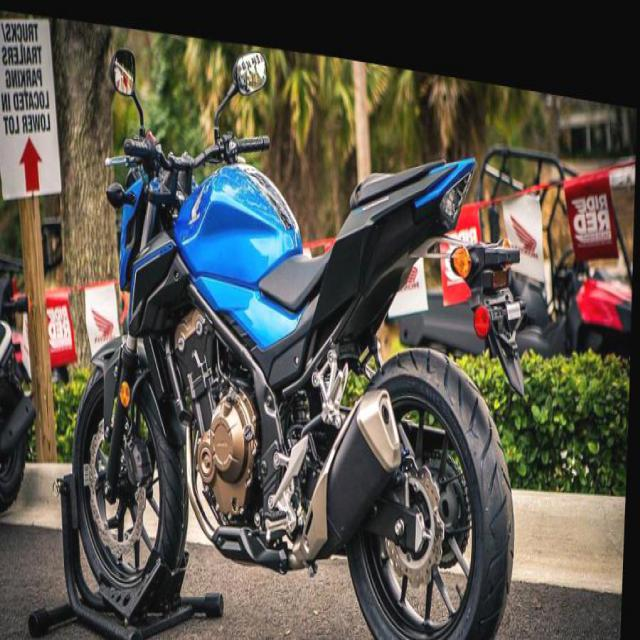CB500F: (62, 10, 534, 639)
